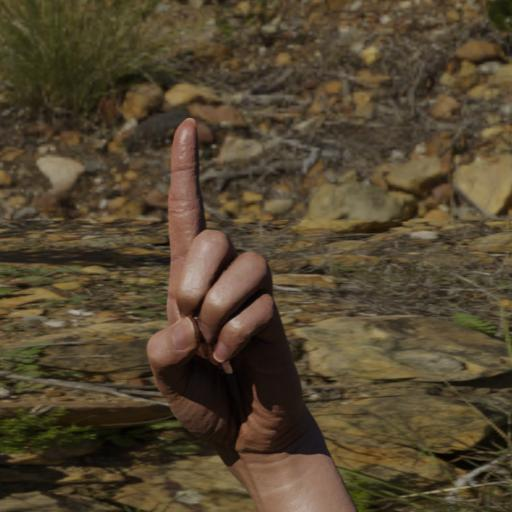D: (121, 98, 345, 470)
